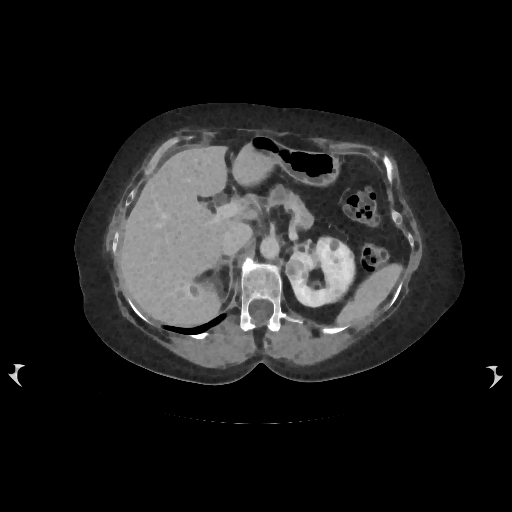Lesion: (283, 256, 308, 281)
